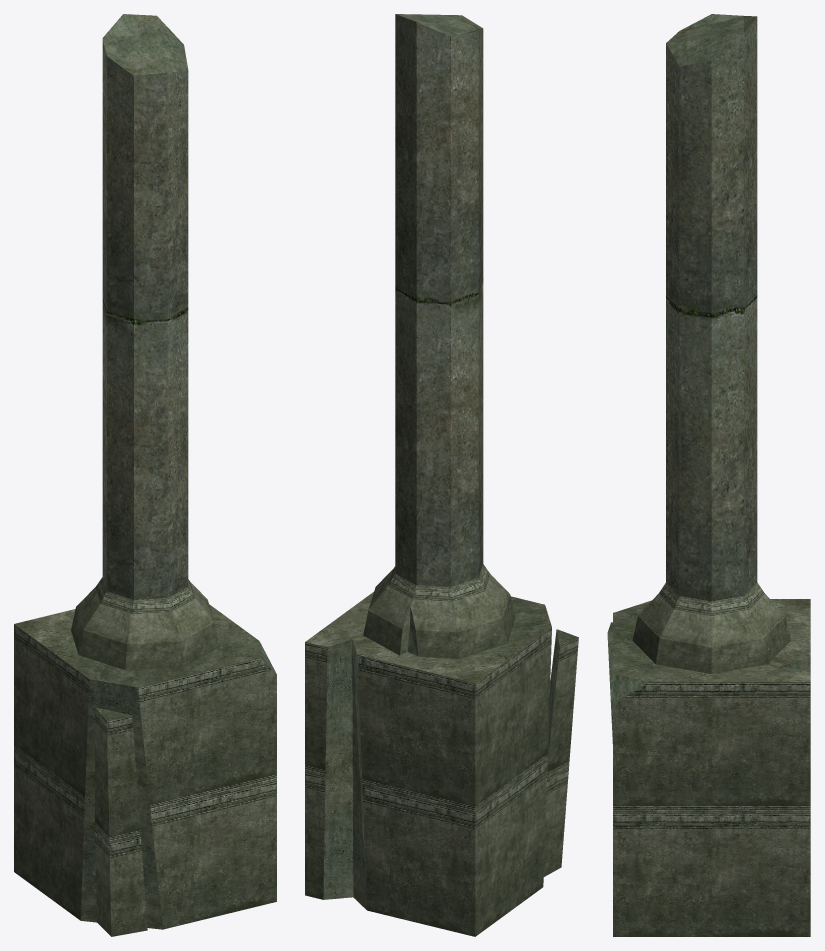
The model's file is thm_dant_jedi_temple_pillar_med_l1.fbx.
3 renders of one model, left to right at view 1: azimuth 30°, elevation 25°; view 2: azimuth 150°, elevation 25°; view 3: azimuth 270°, elevation 25°, orthographic. The views are drawn at different scales.
Visible parts, largest first — view 1: mesh_node; view 2: mesh_node; view 3: mesh_node.
Boxes of the visible parts, x1,y1,x2,y2 form: mesh_node: (14,14,276,936); mesh_node: (305,14,578,936); mesh_node: (607,14,810,936).
Size of the model in its own units: 2.05 by 9.83 by 2.06.
